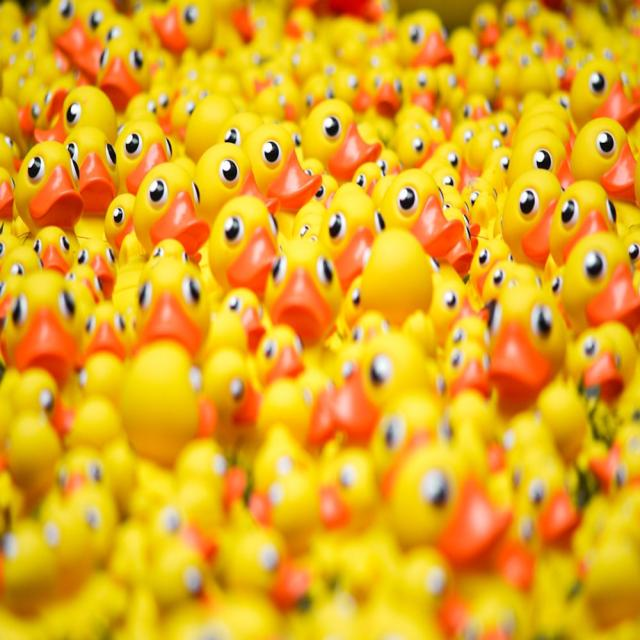ducks: (364, 293, 540, 640), (201, 176, 316, 416)
